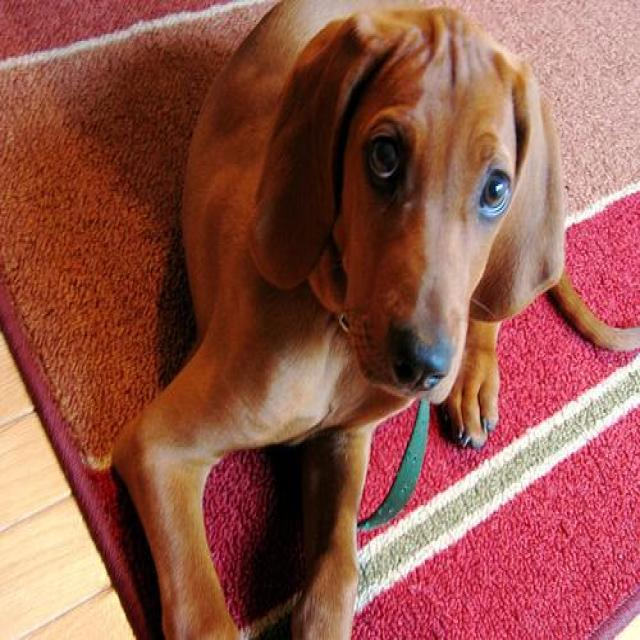dog: (100, 0, 590, 640)
